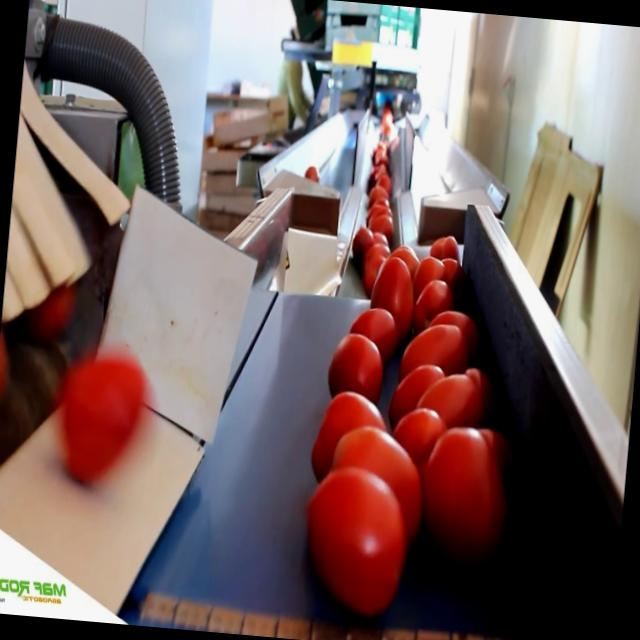Tomato: (50, 341, 164, 498), (300, 471, 404, 618), (426, 421, 508, 544), (329, 418, 426, 515), (396, 312, 465, 382), (322, 326, 382, 398), (419, 358, 480, 426), (321, 386, 390, 444), (30, 270, 74, 353), (366, 256, 421, 322), (345, 304, 397, 361), (394, 412, 440, 456), (418, 274, 453, 320), (346, 222, 376, 266), (0, 330, 15, 405), (429, 230, 462, 262), (367, 208, 392, 235), (303, 163, 321, 184), (370, 183, 389, 202)
